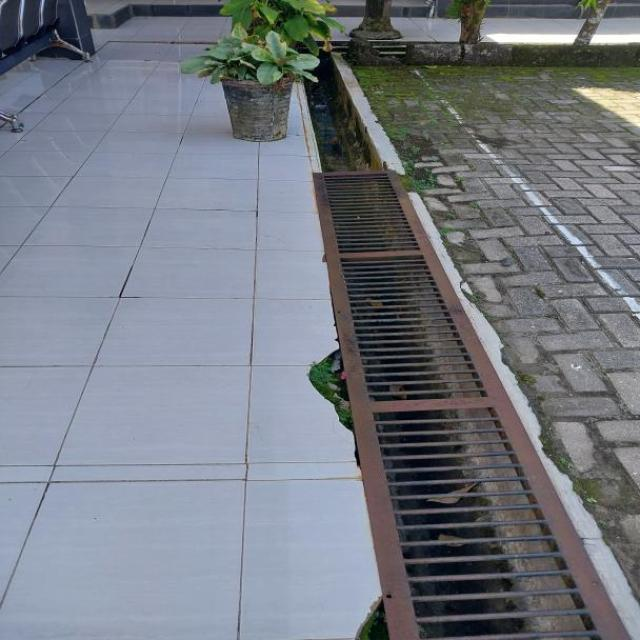plant ahead at: (202, 34, 316, 133)
